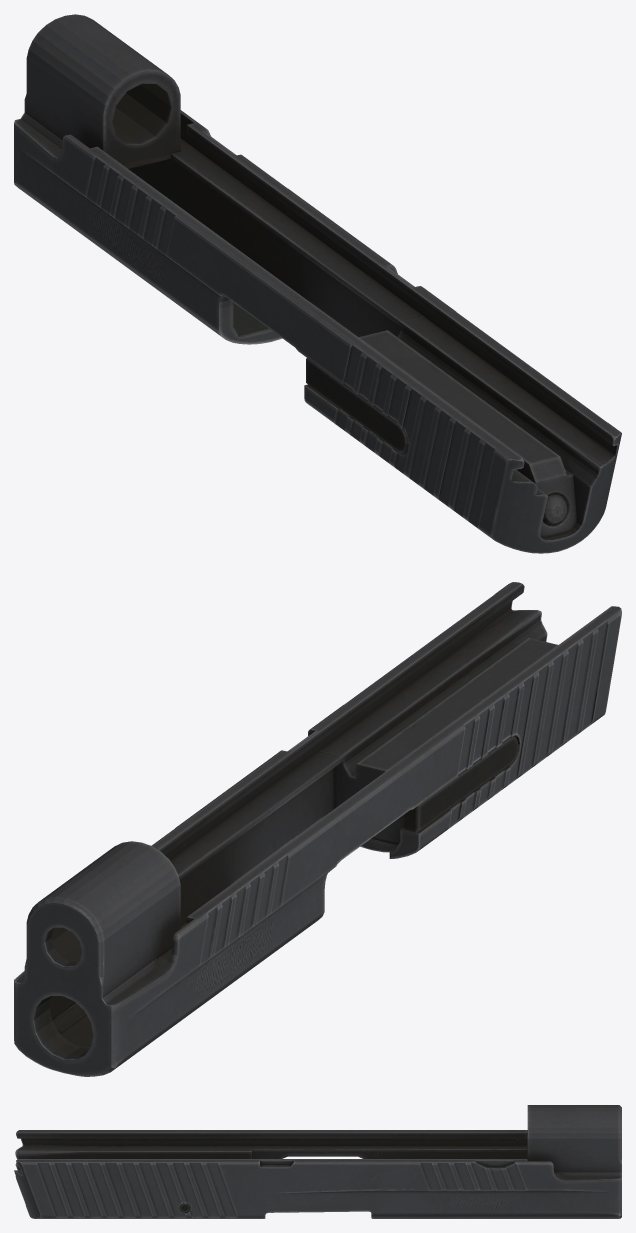
The picture shows the model from 3 angles, top to bottom: view 1: azimuth 30°, elevation 25°; view 2: azimuth 150°, elevation 25°; view 3: azimuth 270°, elevation 25°; orthographic projection. The views are drawn at different scales.
Visible parts, largest first — view 1: TW_5c0009510db834001966907f_PZ_Import; view 2: TW_5c0009510db834001966907f_PZ_Import; view 3: TW_5c0009510db834001966907f_PZ_Import.
Part boxes in pixels (x1,y1,x2,y2): TW_5c0009510db834001966907f_PZ_Import: (14,14,621,553); TW_5c0009510db834001966907f_PZ_Import: (14,582,621,1076); TW_5c0009510db834001966907f_PZ_Import: (14,1105,621,1218).
Size of the model in its own units: 0.0138 by 0.1058 by 0.0201.
Materials: 1 (1 with a texture image).
